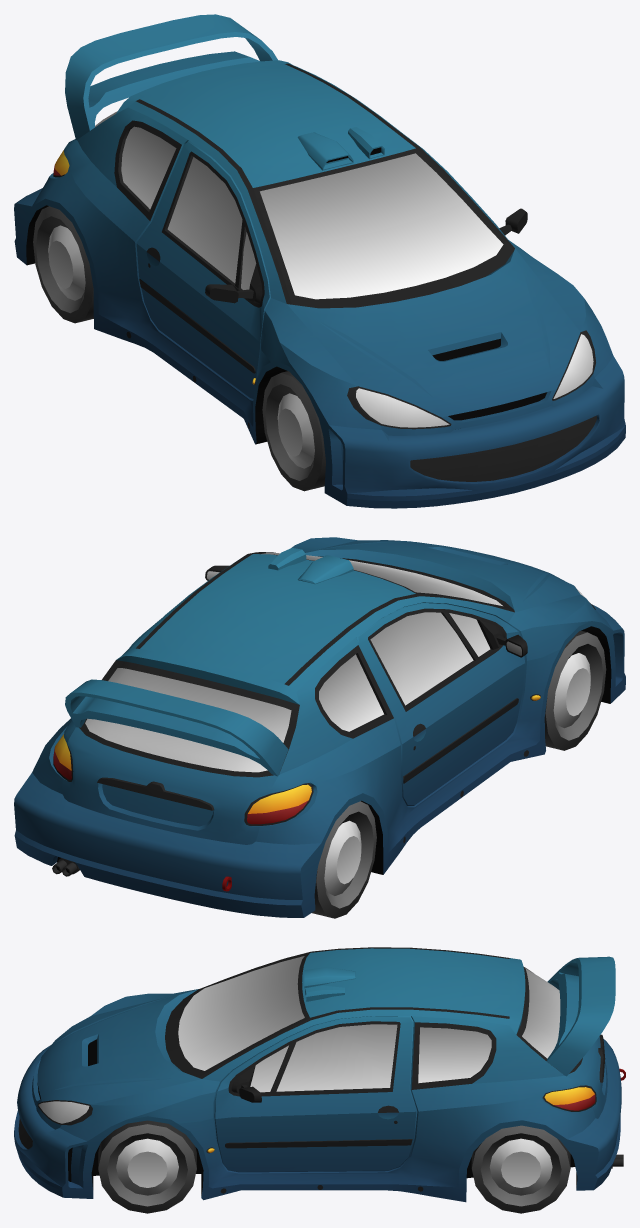
File: puegeot.glb
The picture shows the model from 3 angles, top to bottom: view 1: azimuth 30°, elevation 25°; view 2: azimuth 150°, elevation 25°; view 3: azimuth 270°, elevation 25°; orthographic projection. The views are drawn at different scales.
Visible parts, largest first — view 1: Peugeot206, FRW, RRW; view 2: Peugeot206, FRW, RRW; view 3: Peugeot206, FLW, RLW.
Part boxes in pixels (<box>): Peugeot206: <box>14,14,625,508</box>; FRW: <box>262,371,325,491</box>; RRW: <box>33,206,93,323</box>; Peugeot206: <box>14,537,625,917</box>; FRW: <box>544,631,606,750</box>; RRW: <box>312,801,376,918</box>; Peugeot206: <box>14,947,625,1202</box>; FLW: <box>98,1120,196,1213</box>; RLW: <box>471,1125,570,1213</box>.
Bounding box in the file's own units: 213 × 146 × 435.
Materials: 1 (1 with a texture image).
